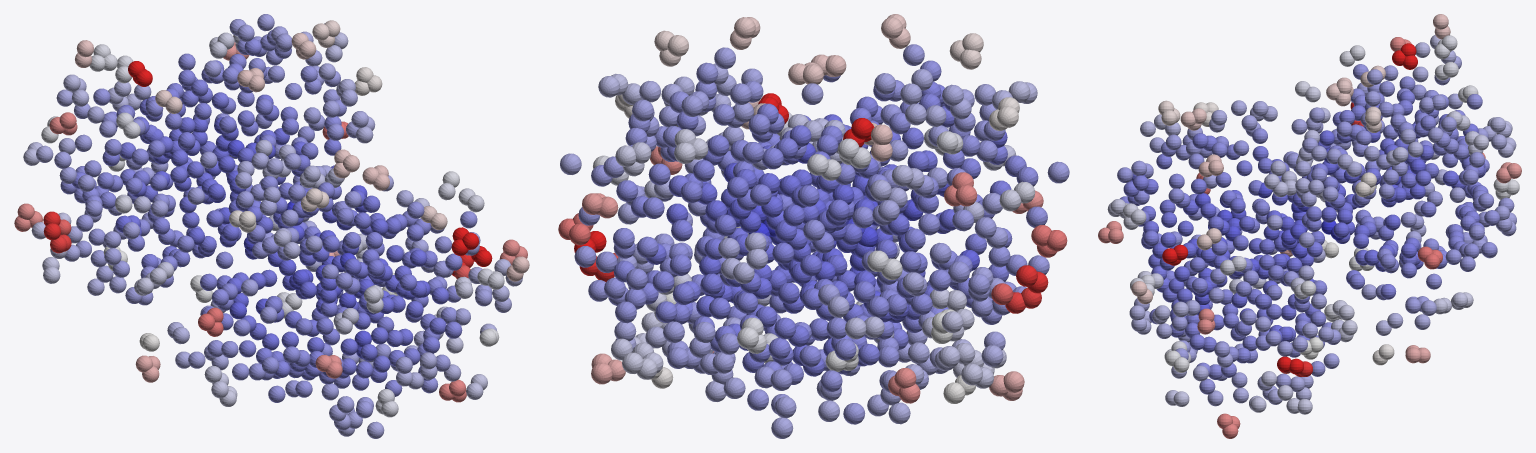
File: 1gfl__spheres__b-factor__H.glb
3 views of the same model, side by side, from view 1: azimuth 30°, elevation 25°; view 2: azimuth 150°, elevation 25°; view 3: azimuth 270°, elevation 25° (orthographic). The views are drawn at different scales.
Parts seen in each view (by area): view 1: Renderer Node; view 2: Renderer Node; view 3: Renderer Node.
Part boxes in pixels (box(x1,y1,x2,y2)): Renderer Node: box(14, 14, 529, 438); Renderer Node: box(558, 14, 1069, 438); Renderer Node: box(1098, 14, 1521, 438).
Size of the model in its own units: 64.82 by 54.43 by 64.
